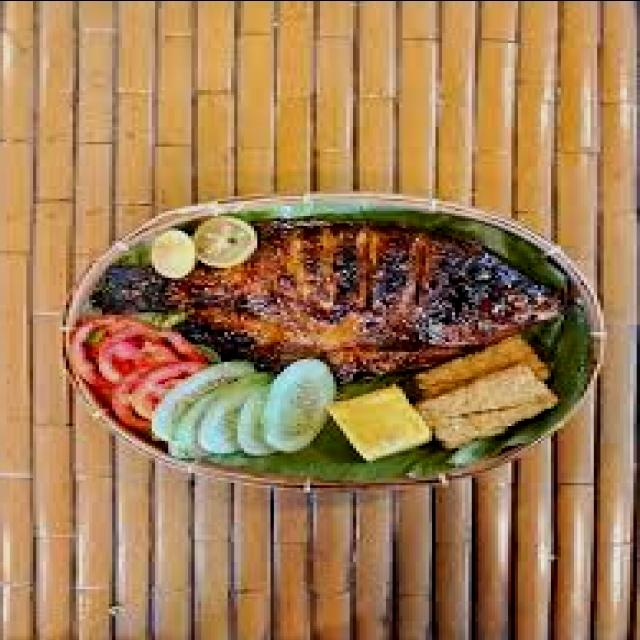ikan bakar: (89, 217, 561, 383)
